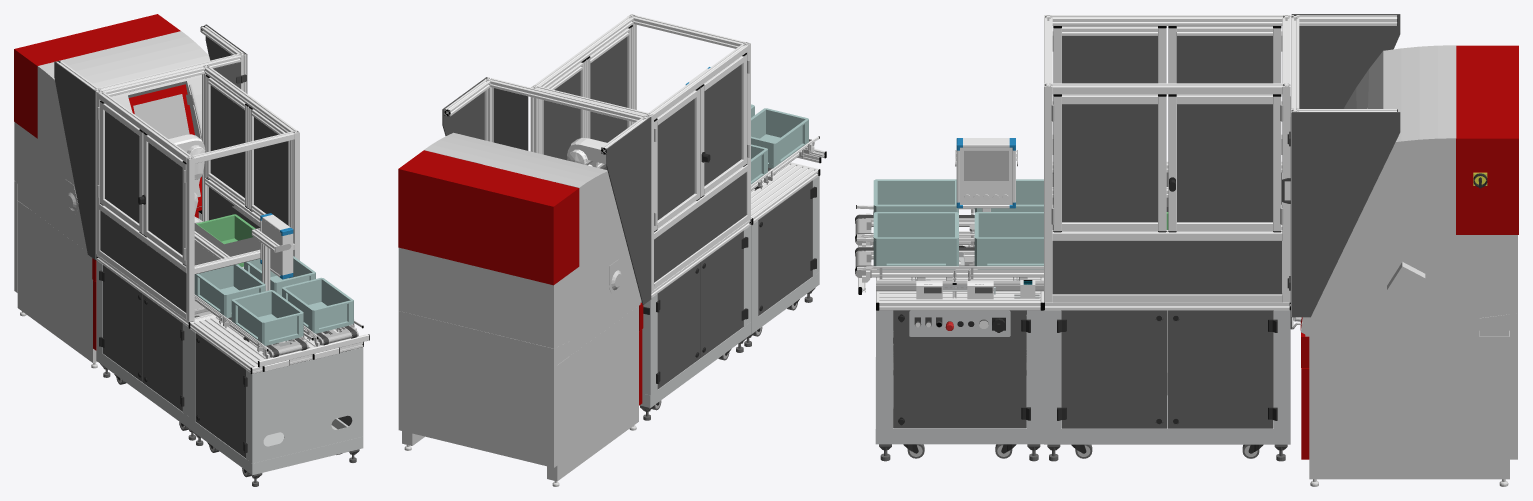
The model's file is cnc.glb.
The picture shows the model from 3 angles, left to right: view 1: azimuth 30°, elevation 25°; view 2: azimuth 150°, elevation 25°; view 3: azimuth 270°, elevation 25°; orthographic projection. The views are drawn at different scales.
Visible parts, largest first — view 1: M947.I473, M3.I1, M709.I354, M953.I476, M505.I252, M15.I7, M869.I434, M789.I394, M787.I393, M867.I433, M865.I432, M469.I234 (+31 smaller); view 2: M947.I473, M953.I476, M709.I354, M505.I252, M15.I7, M787.I393, M789.I394, M869.I434, M865.I432, M867.I433, M861.I430, M469.I234 (+20 smaller); view 3: M947.I473, M503.I251, M101.I50, M953.I476, M851.I425, M849.I424, M871.I435, M863.I431, M861.I430, M747.I373, M709.I354, M505.I252 (+28 smaller).
Part boxes in pixels (<box>): M947.I473: <box>14,31,210,368</box>; M3.I1: <box>246,347,363,463</box>; M709.I354: <box>96,90,294,319</box>; M953.I476: <box>14,14,201,350</box>; M505.I252: <box>54,61,95,259</box>; M15.I7: <box>195,333,245,457</box>; M869.I434: <box>100,210,186,312</box>; M789.I394: <box>103,265,142,382</box>; M787.I393: <box>143,294,182,411</box>; M867.I433: <box>148,143,182,255</box>; M865.I432: <box>105,111,139,223</box>; M469.I234: <box>231,290,303,345</box>; M947.I473: <box>398,132,641,486</box>; M953.I476: <box>398,150,643,405</box>; M709.I354: <box>633,15,747,291</box>; M505.I252: <box>606,117,651,304</box>; M15.I7: <box>758,181,812,315</box>; M787.I393: <box>700,231,743,357</box>; M789.I394: <box>657,263,700,389</box>; M869.I434: <box>654,172,746,282</box>; M865.I432: <box>657,99,694,220</box>; M867.I433: <box>704,64,741,186</box>; M861.I430: <box>590,37,627,142</box>; M469.I234: <box>751,108,808,168</box>; M947.I473: <box>1291,45,1517,486</box>; M503.I251: <box>1291,112,1400,317</box>; M101.I50: <box>893,310,1026,428</box>; M953.I476: <box>1300,45,1518,459</box>; M851.I425: <box>1061,310,1167,428</box>; M849.I424: <box>1168,310,1273,428</box>; M871.I435: <box>1052,241,1281,294</box>; M863.I431: <box>1177,104,1272,222</box>; M861.I430: <box>1062,104,1157,222</box>; M747.I373: <box>1053,94,1281,231</box>; M709.I354: <box>1044,15,1290,229</box>; M505.I252: <box>1291,14,1400,108</box>.
Bounding box in the file's own units: 1.15 × 1.96 × 3.12.
